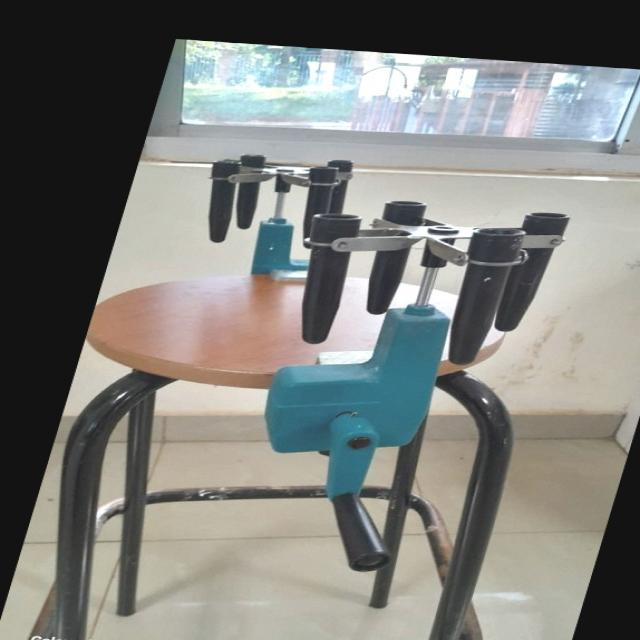Centrifuge: (76, 154, 618, 572)
